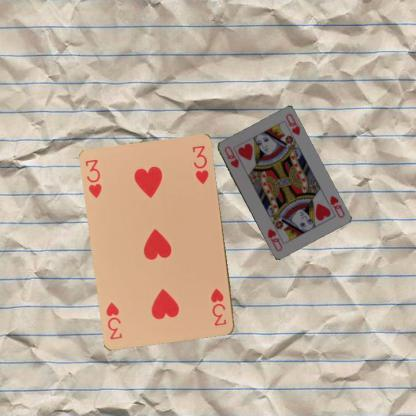3h: (82, 156, 104, 199), (208, 286, 228, 328)
Qh: (221, 144, 240, 170), (327, 193, 346, 219)
